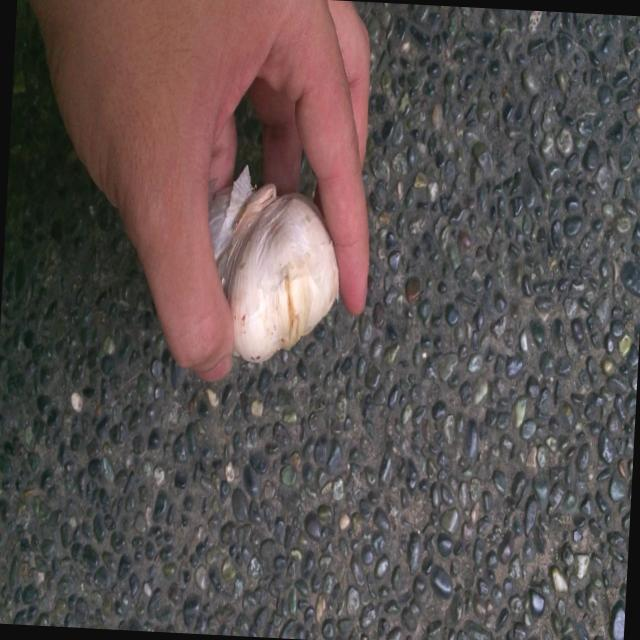garlic: (204, 171, 354, 378)
